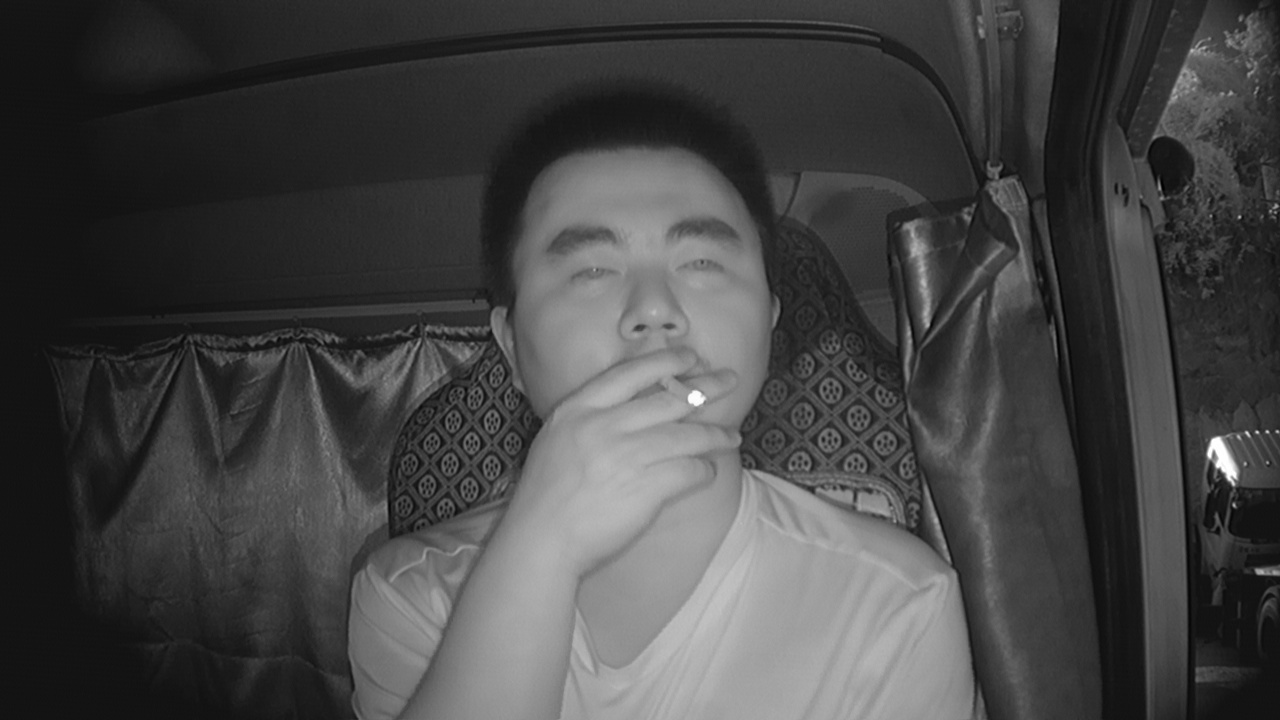hand: (578, 344, 735, 514)
